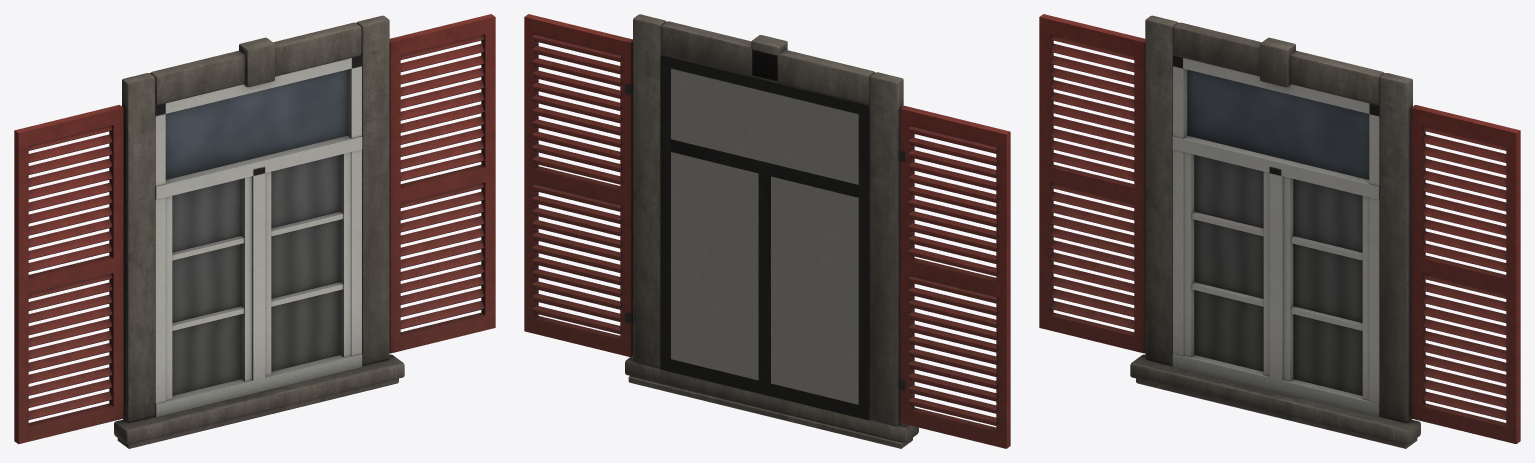
File: win_town_red.glb
The picture shows the model from 3 angles, left to right: view 1: azimuth 30°, elevation 25°; view 2: azimuth 150°, elevation 25°; view 3: azimuth 330°, elevation 25°; orthographic projection.
Parts seen in each view (by area): view 1: win_town_red; view 2: win_town_red; view 3: win_town_red.
Boxes of the visible parts, left/top/right/bottom form: win_town_red: left=14, top=14, right=495, bottom=448; win_town_red: left=524, top=14, right=1010, bottom=448; win_town_red: left=1039, top=14, right=1520, bottom=448.
Bounding box in the file's own units: 2.36 × 1.74 × 0.1242.
1 material, 1 textured.
